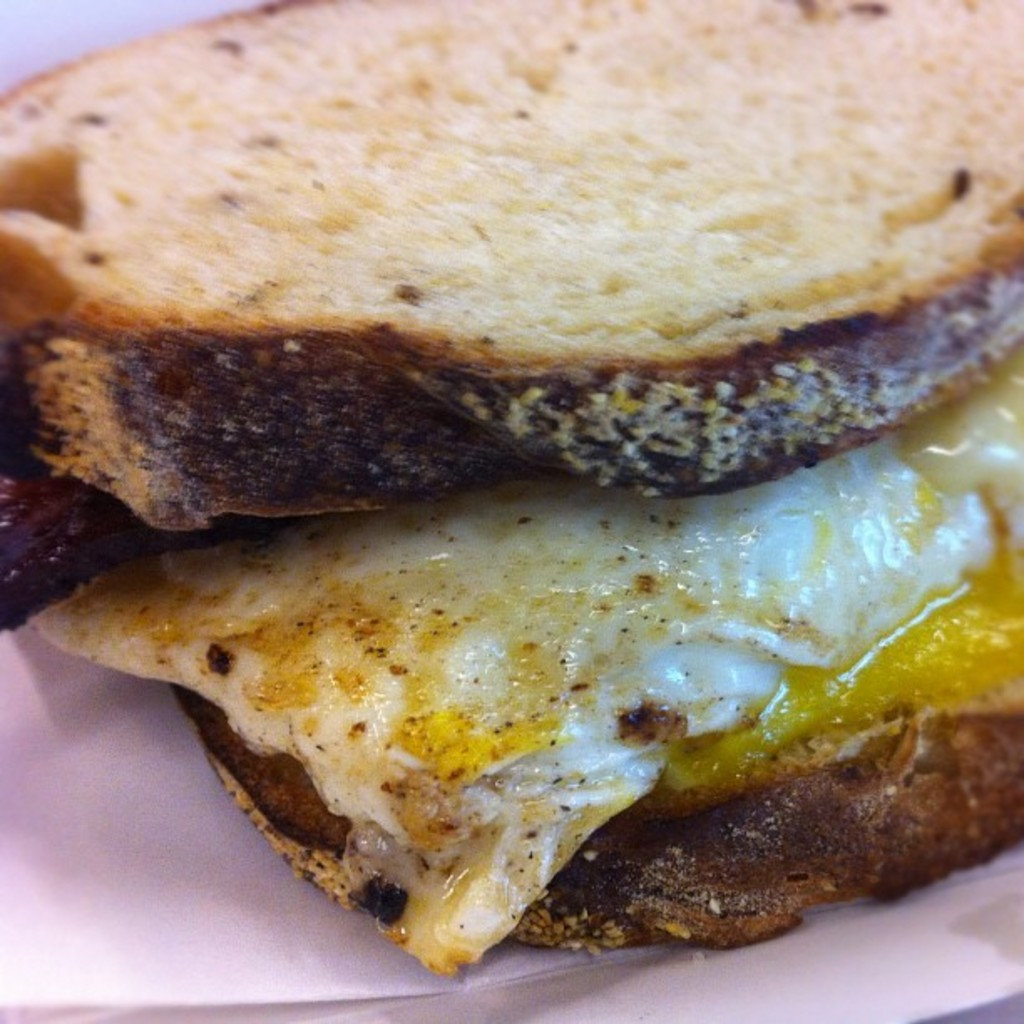sandwich: (0, 0, 1022, 972)
